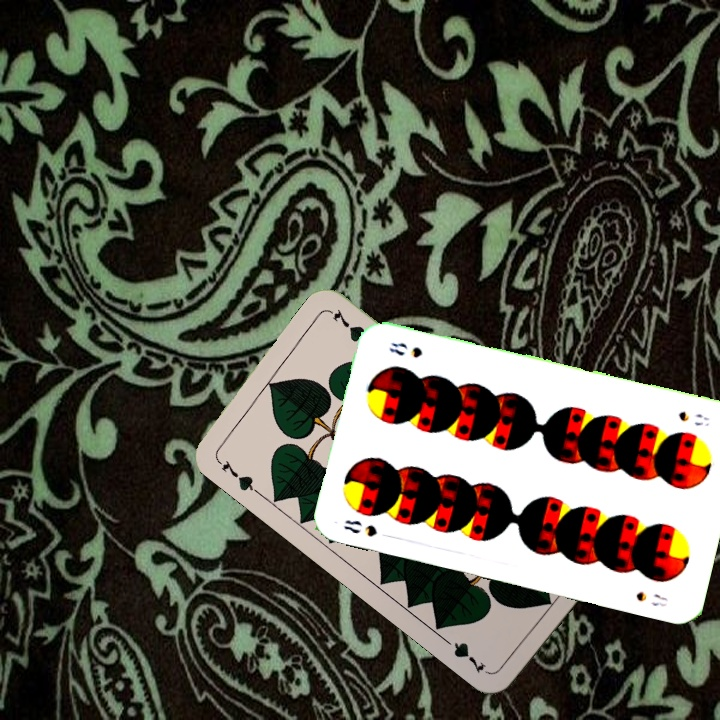G7: (212, 454, 262, 497)
S8: (340, 515, 380, 540), (674, 407, 712, 429)
